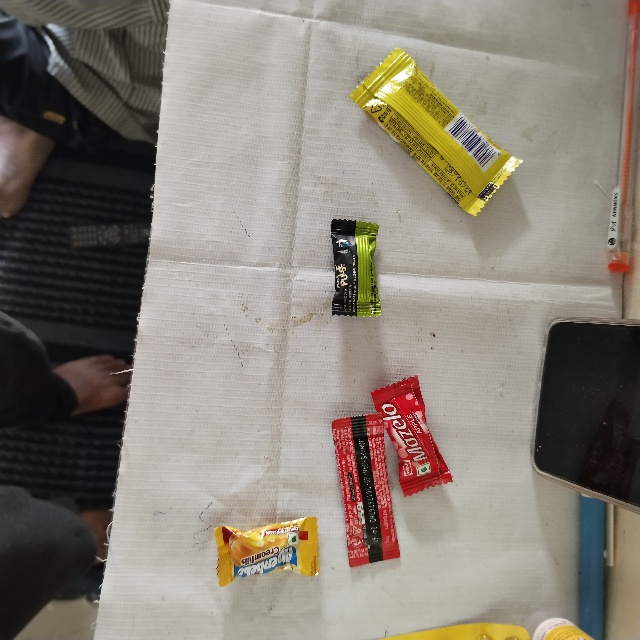Alpenlibe Creamfills: (218, 520, 320, 583)
Mazelo: (369, 389, 417, 500)
Nescafe Coffee: (328, 419, 384, 569)
Orbit: (395, 39, 577, 120)
Pulse: (327, 216, 381, 317)
